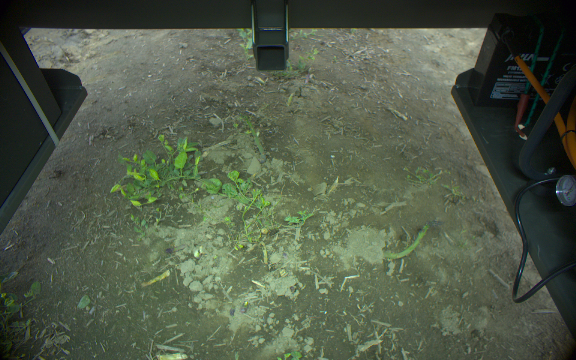aspa: (383, 218, 444, 260), (238, 113, 267, 163)
